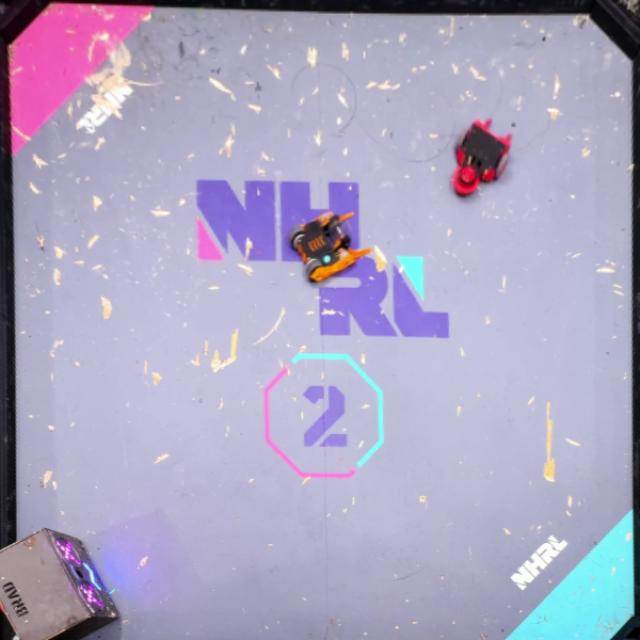housebot: (0, 527, 120, 640)
robot: (289, 208, 373, 284), (451, 116, 514, 199)
